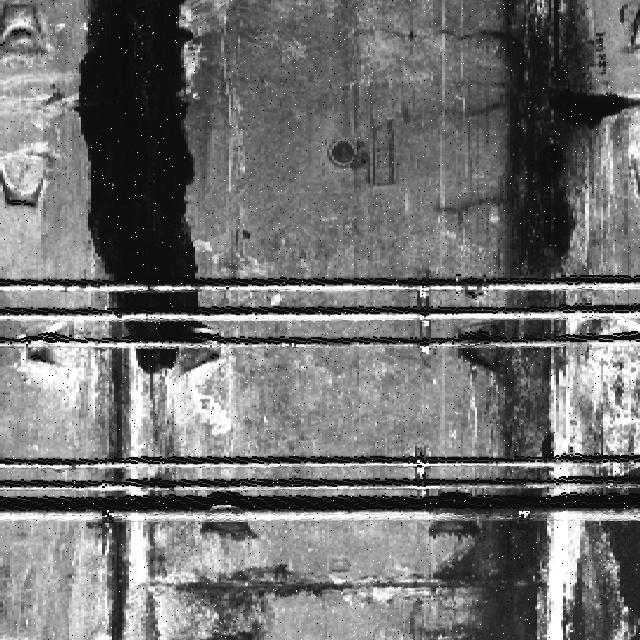leakage: (429, 1, 639, 636), (79, 1, 205, 387)
